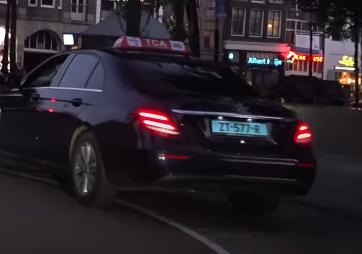license-plate: (210, 119, 268, 138)
